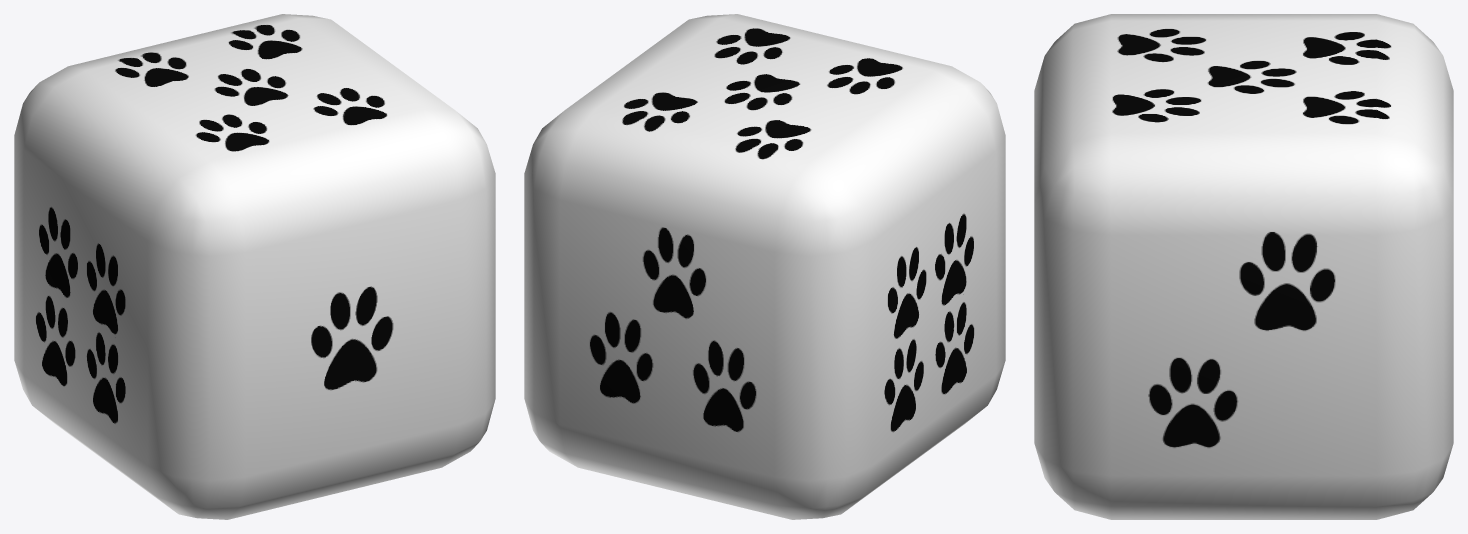
The model's file is CatDie.fbx.
3 views of the same model, side by side, from view 1: azimuth 30°, elevation 25°; view 2: azimuth 150°, elevation 25°; view 3: azimuth 270°, elevation 25° (orthographic). The views are drawn at different scales.
Parts seen in each view (by area): view 1: Cube; view 2: Cube; view 3: Cube.
Part boxes in pixels (left/top/right/bottom): Cube: left=14, top=14, right=495, bottom=519; Cube: left=524, top=14, right=1005, bottom=519; Cube: left=1034, top=14, right=1453, bottom=519.
Bounding box in the file's own units: 200 × 200 × 200.
